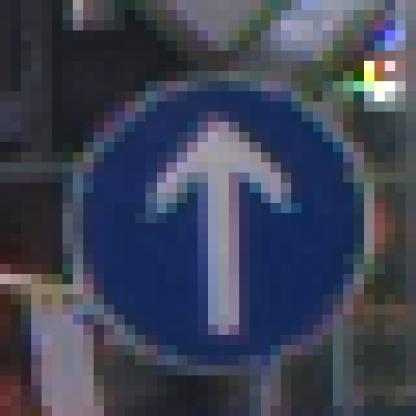AheadOnly: (53, 52, 365, 366)
